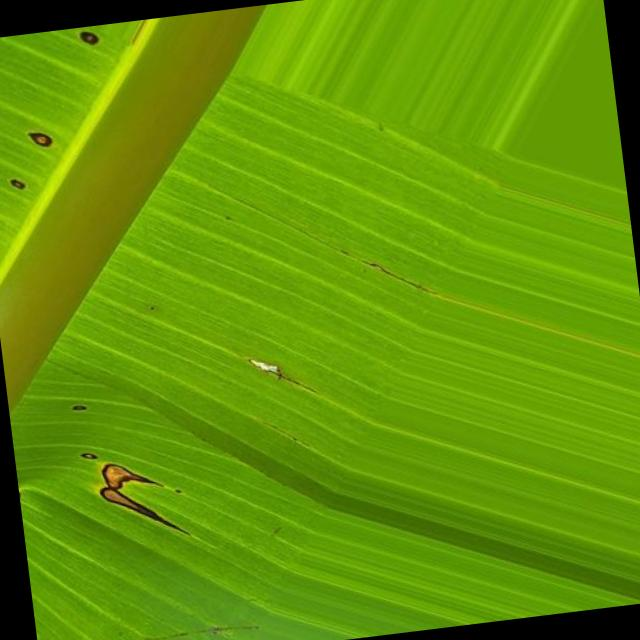Banana_Black_Sigatoka: (58, 398, 241, 570), (0, 24, 122, 200)
